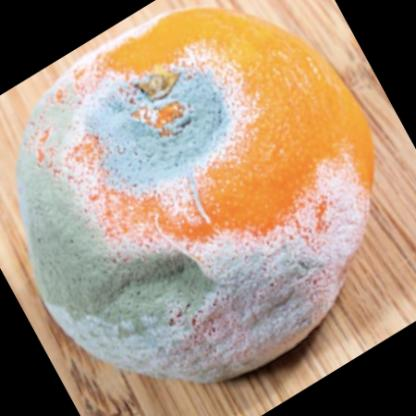rotten: (20, 13, 375, 385)
